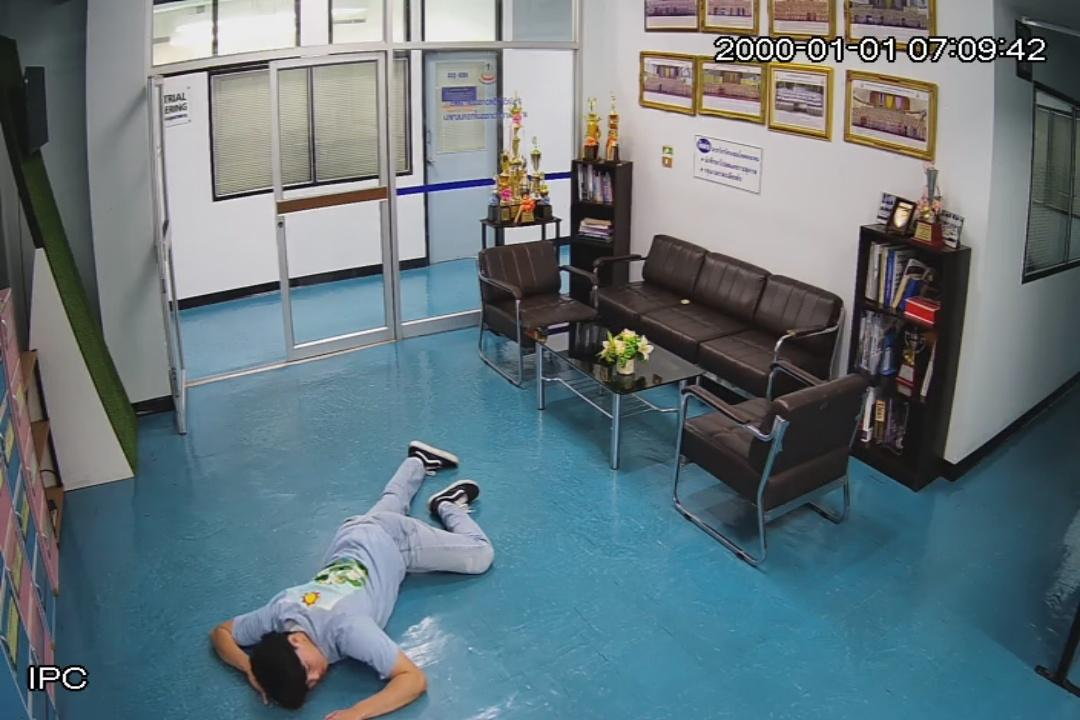fall: (210, 440, 497, 720)
